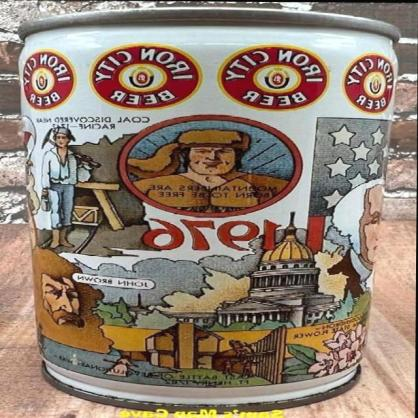can: (7, 5, 406, 405)
